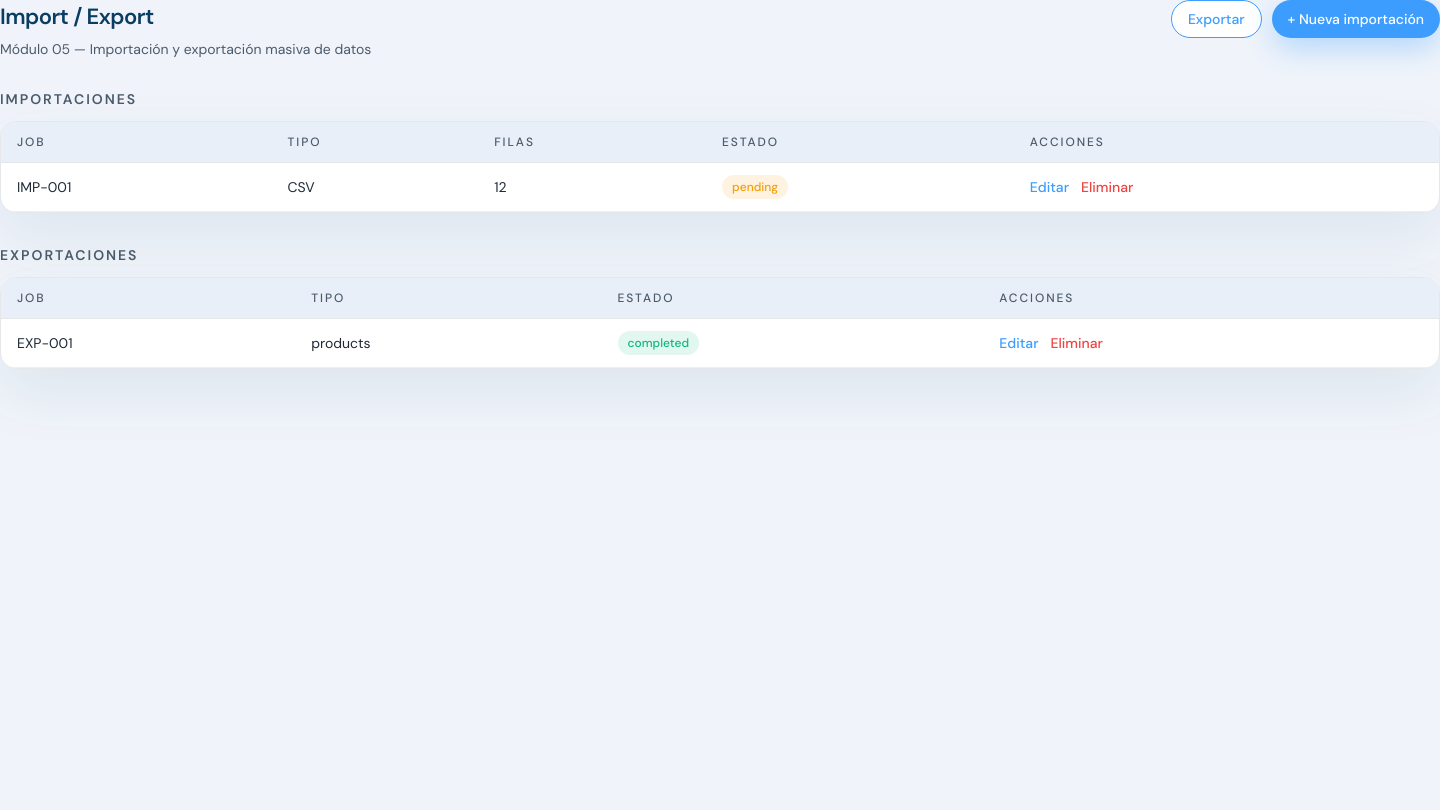
Test: ImportExportPage › abre edición y confirmación de borrado
Click the button "Editar" in the row of "IMP-001" at (1049, 187), box [1030,177,1069,197]
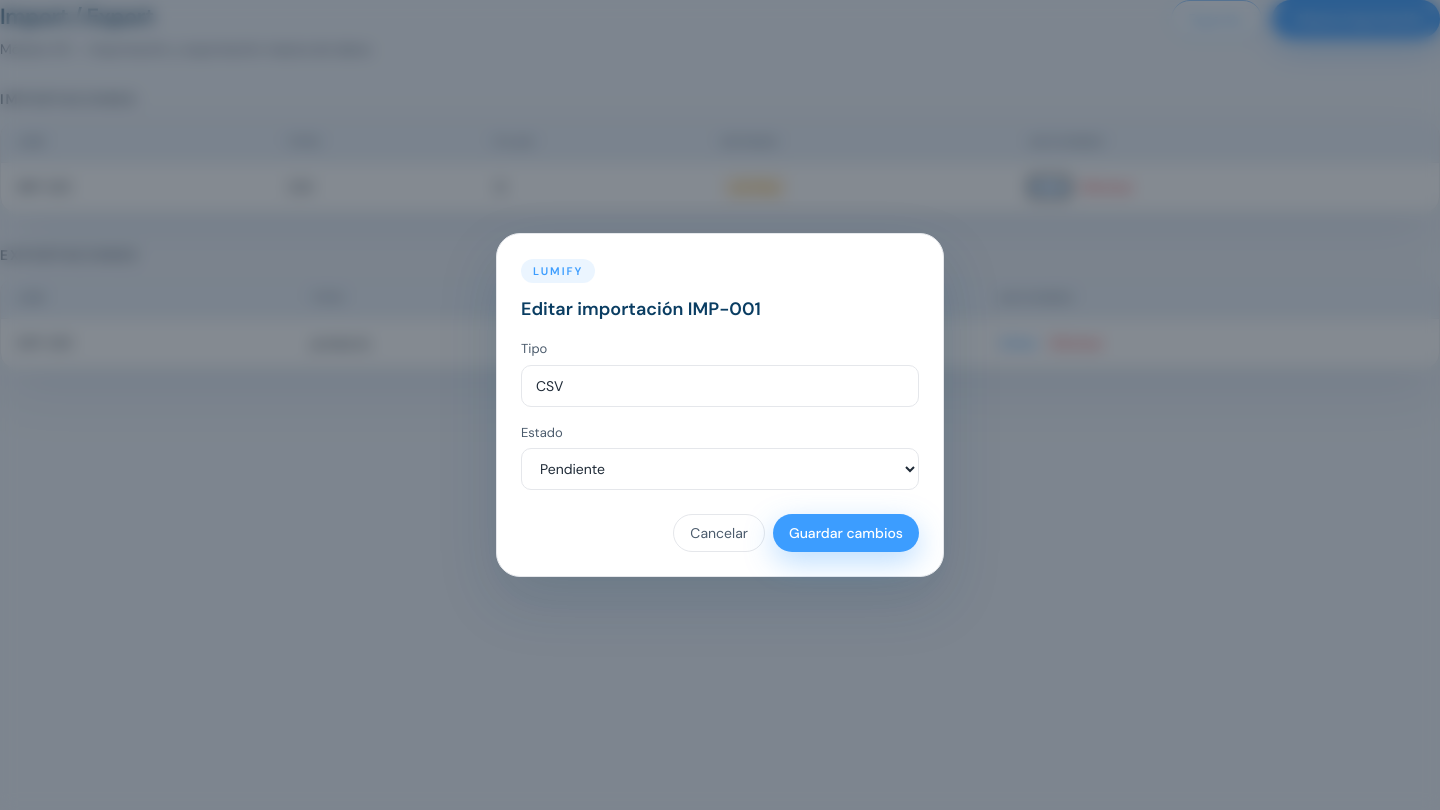
expect the heading "Editar importación IMP-001" is shown: met, box [521,297,761,321]
Click the button "Cancelar" at (719, 533), box [673,514,765,552]
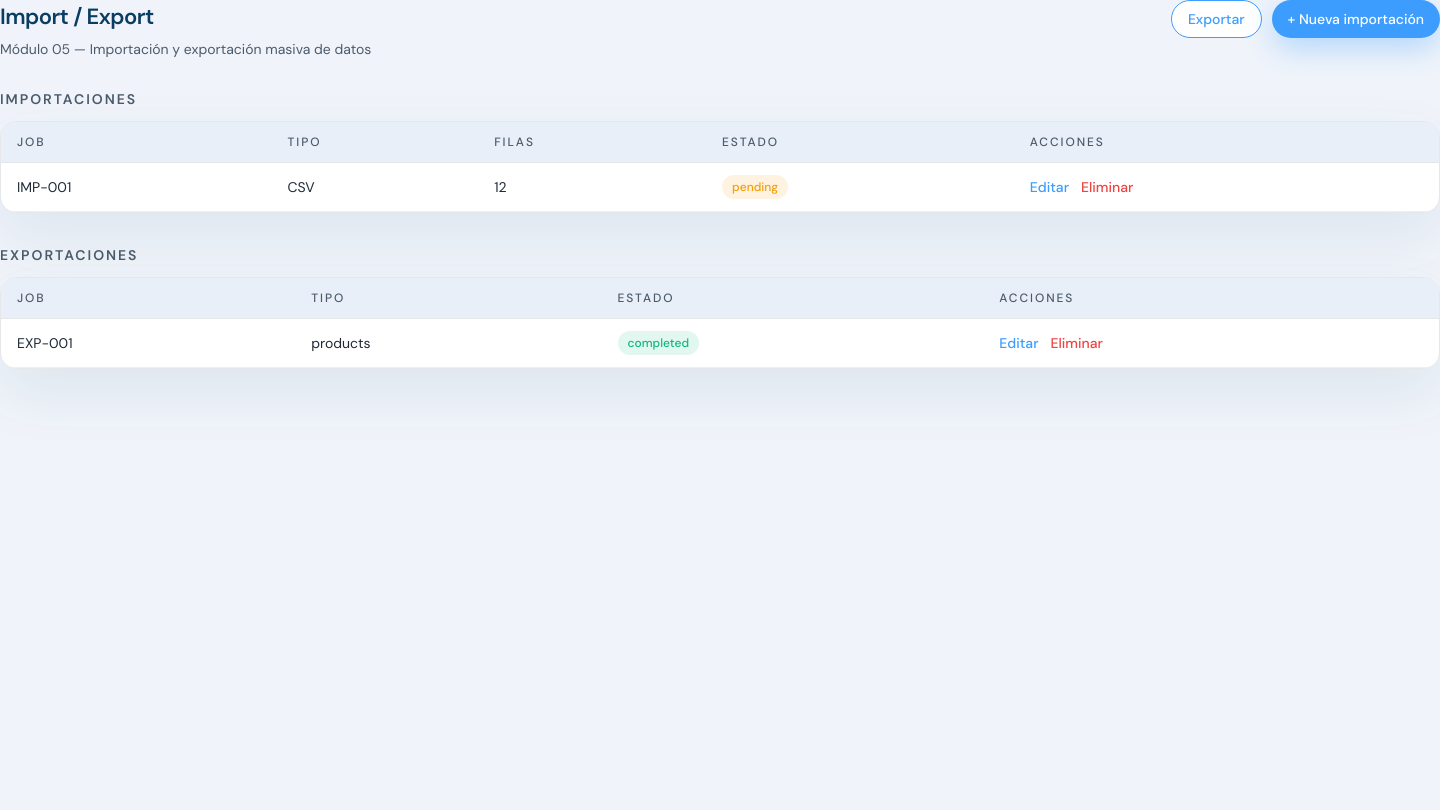
Click the button "Eliminar" in the row of "IMP-001" at (1107, 187), box [1081,177,1133,197]
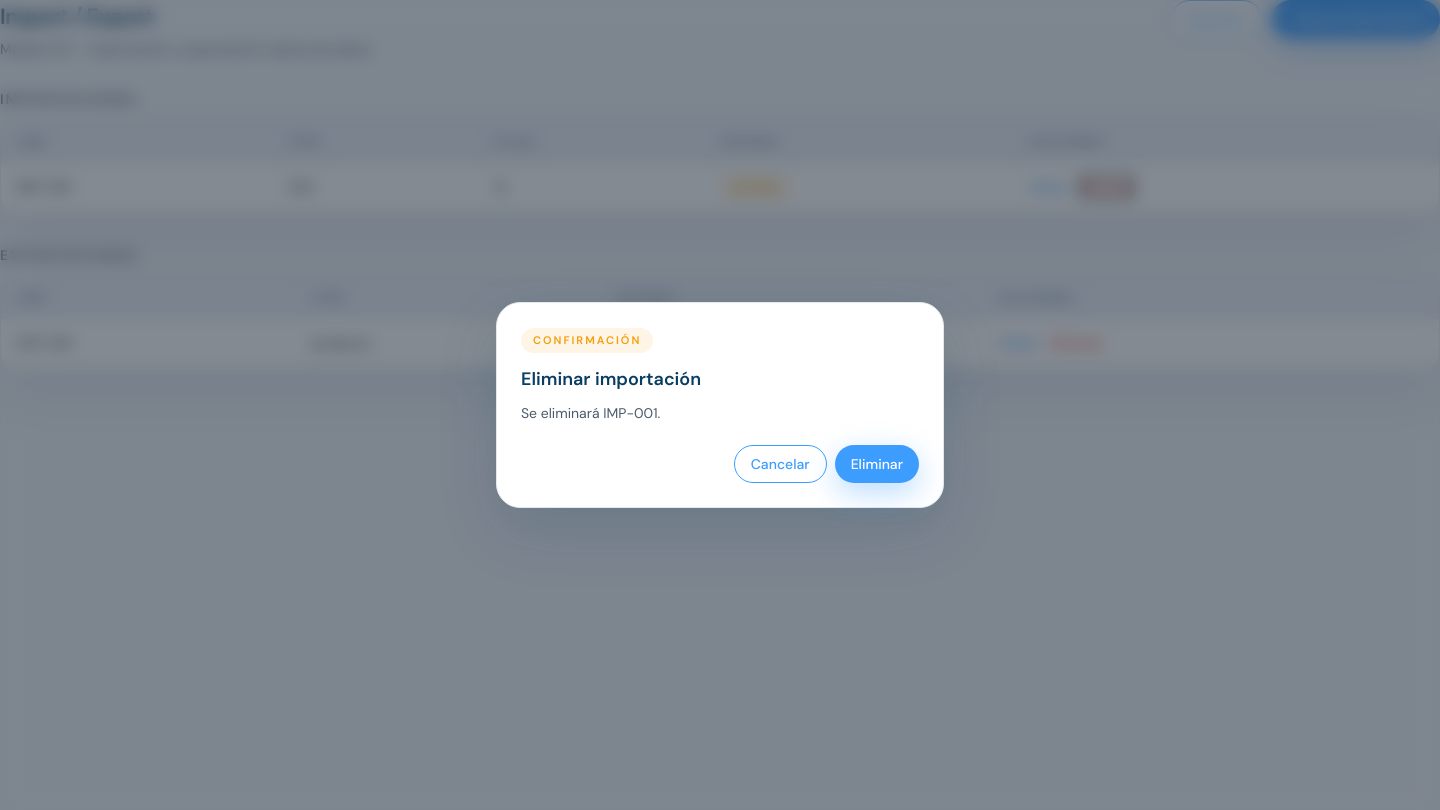
expect the heading "Eliminar importación" is shown: met, box [521,367,701,391]
